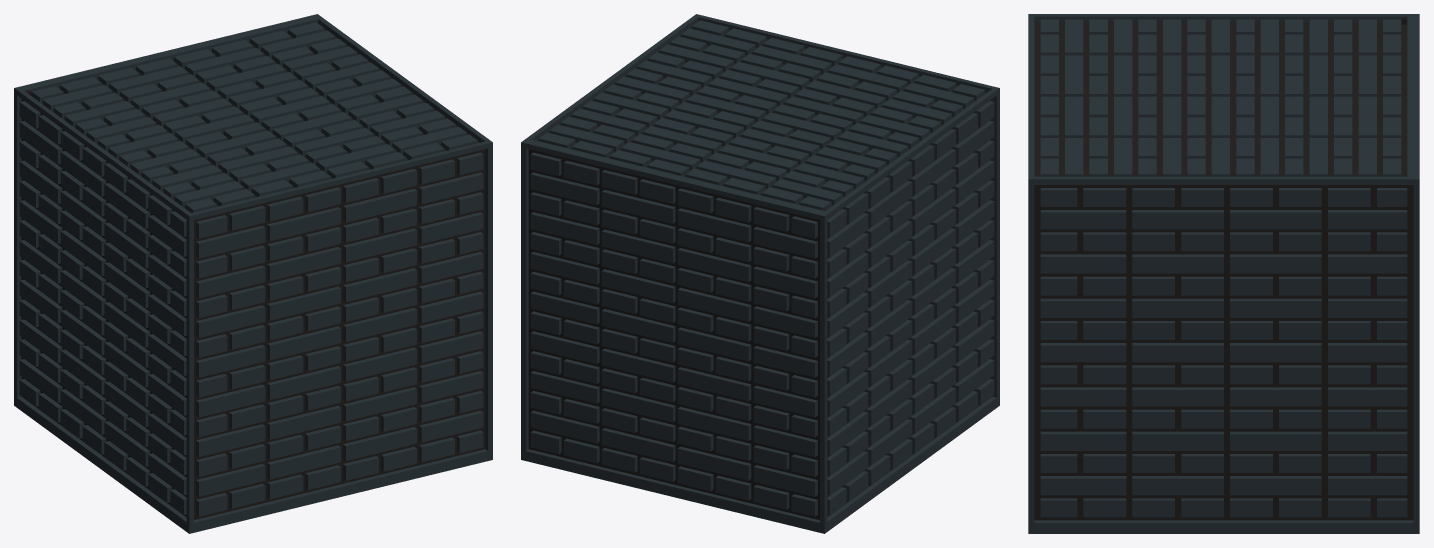
File: brick_cube.obj
3 views of the same model, side by side, from view 1: azimuth 30°, elevation 25°; view 2: azimuth 150°, elevation 25°; view 3: azimuth 270°, elevation 25° (orthographic). The views are drawn at different scales.
Size of the model in its own units: 6.4 by 6.4 by 6.4.
1 material, 1 textured.
